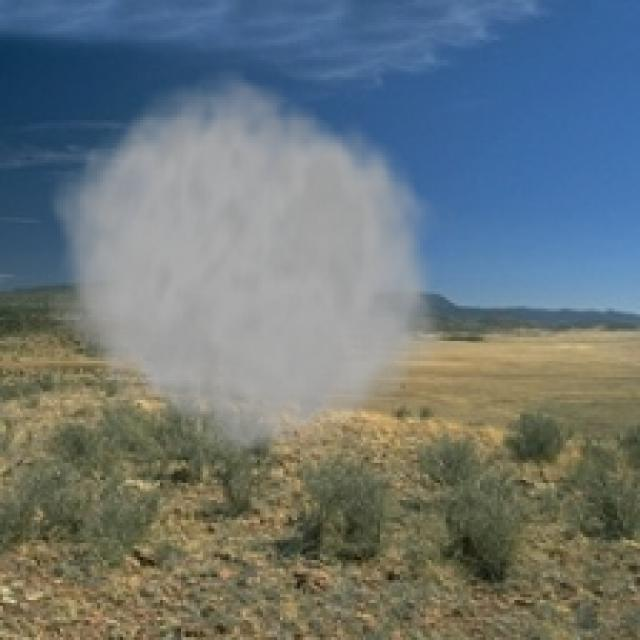smoke: (49, 60, 457, 469)
